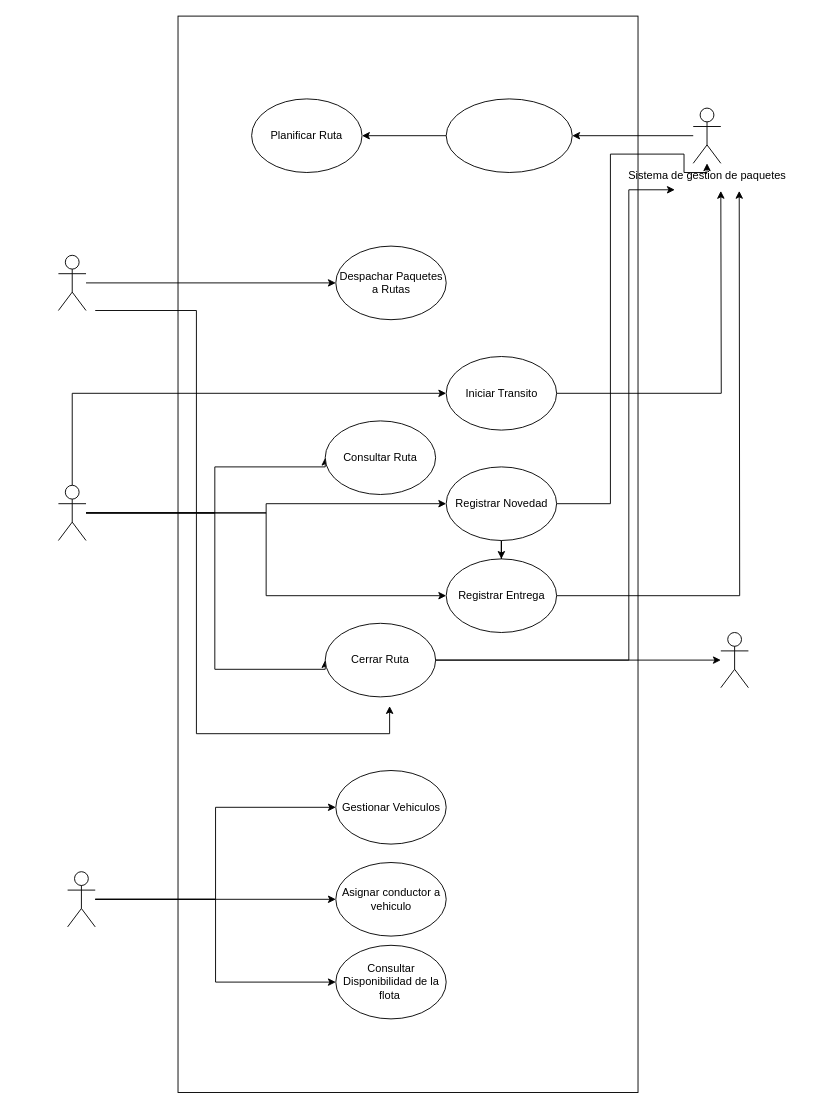
Some shapes in this 840 by 1109 pixel diagram are drawn without their labels. Each missing label, with the box of its shape:
Admin. de Flota: (67, 871, 95, 927)
Conductor: (58, 484, 86, 540)
Despachador Logistico: (58, 254, 86, 310)
Sistema de Facturacion y liquidacion: (720, 632, 748, 688)
Solicitar ruta: (445, 98, 572, 172)
